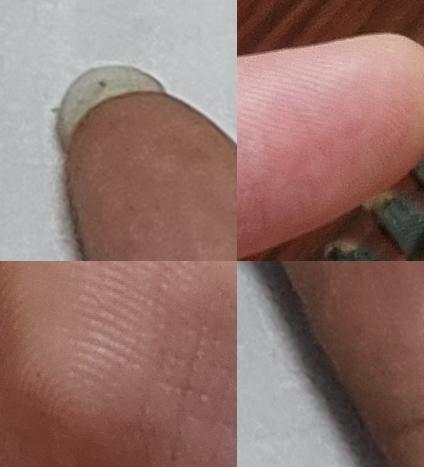Fingerprints: (0, 261, 237, 467), (237, 33, 424, 259), (65, 90, 237, 261), (281, 261, 424, 436)
